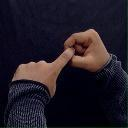hand: (11, 46, 75, 97), (63, 28, 109, 72)
